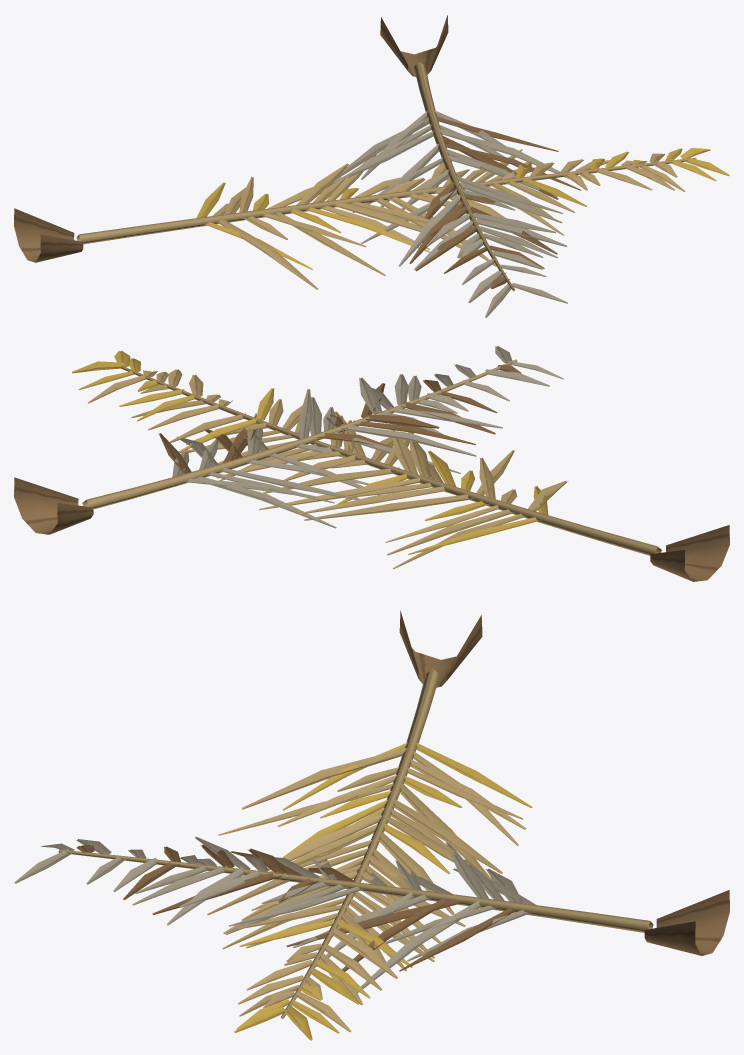
3 views of the same model, one above another, from view 1: azimuth 30°, elevation 25°; view 2: azimuth 150°, elevation 25°; view 3: azimuth 270°, elevation 25° (orthographic). The views are drawn at different scales.
Parts seen in each view (by area): view 1: debris; view 2: debris; view 3: debris.
Boxes of the visible parts, bbox=[...] form: debris: bbox=[14, 15, 729, 317]; debris: bbox=[14, 346, 729, 581]; debris: bbox=[14, 610, 729, 1040].
Bounding box in the file's own units: 4.72 × 0.503 × 3.78.
Materials: 1 (1 with a texture image).
